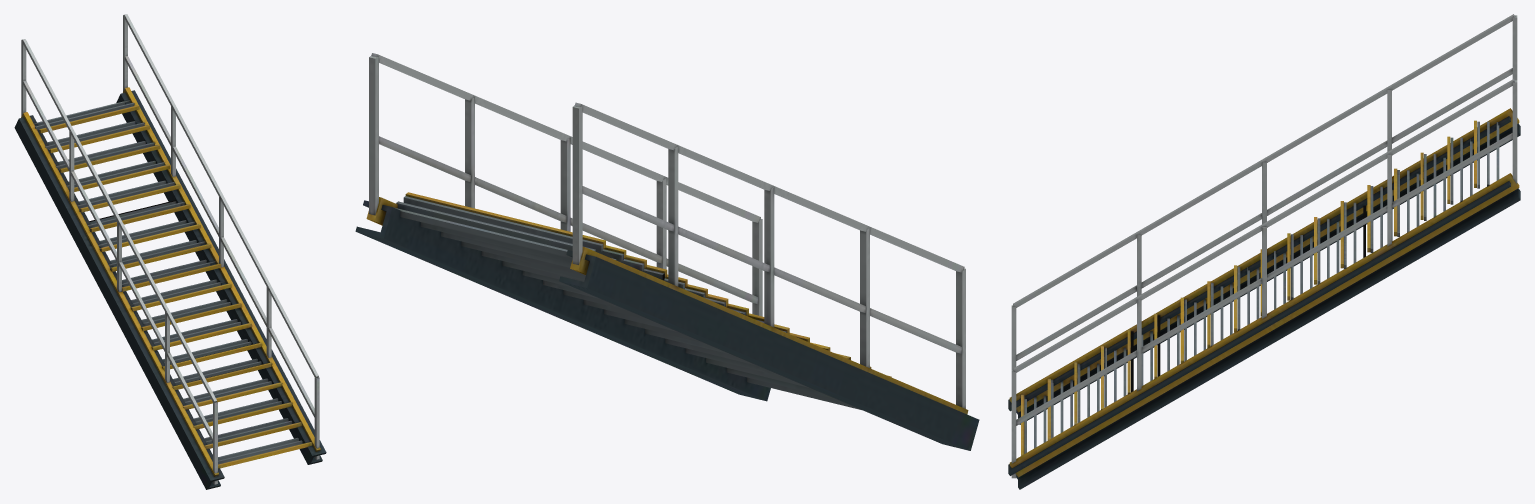
File: stair_run.glb
3 renders of one model, left to right at view 1: azimuth 30°, elevation 25°; view 2: azimuth 150°, elevation 25°; view 3: azimuth 270°, elevation 25°, orthographic. The views are drawn at different scales.
Parts seen in each view (by area): view 1: body; view 2: body; view 3: body.
Part boxes in pixels (left/top/right/bottom): body: left=14, top=14, right=326, bottom=489; body: left=355, top=53, right=979, bottom=450; body: left=1008, top=14, right=1520, bottom=489.
Size of the model in its own units: 1.64 by 4.2 by 4.81.
1 material, 1 textured.
